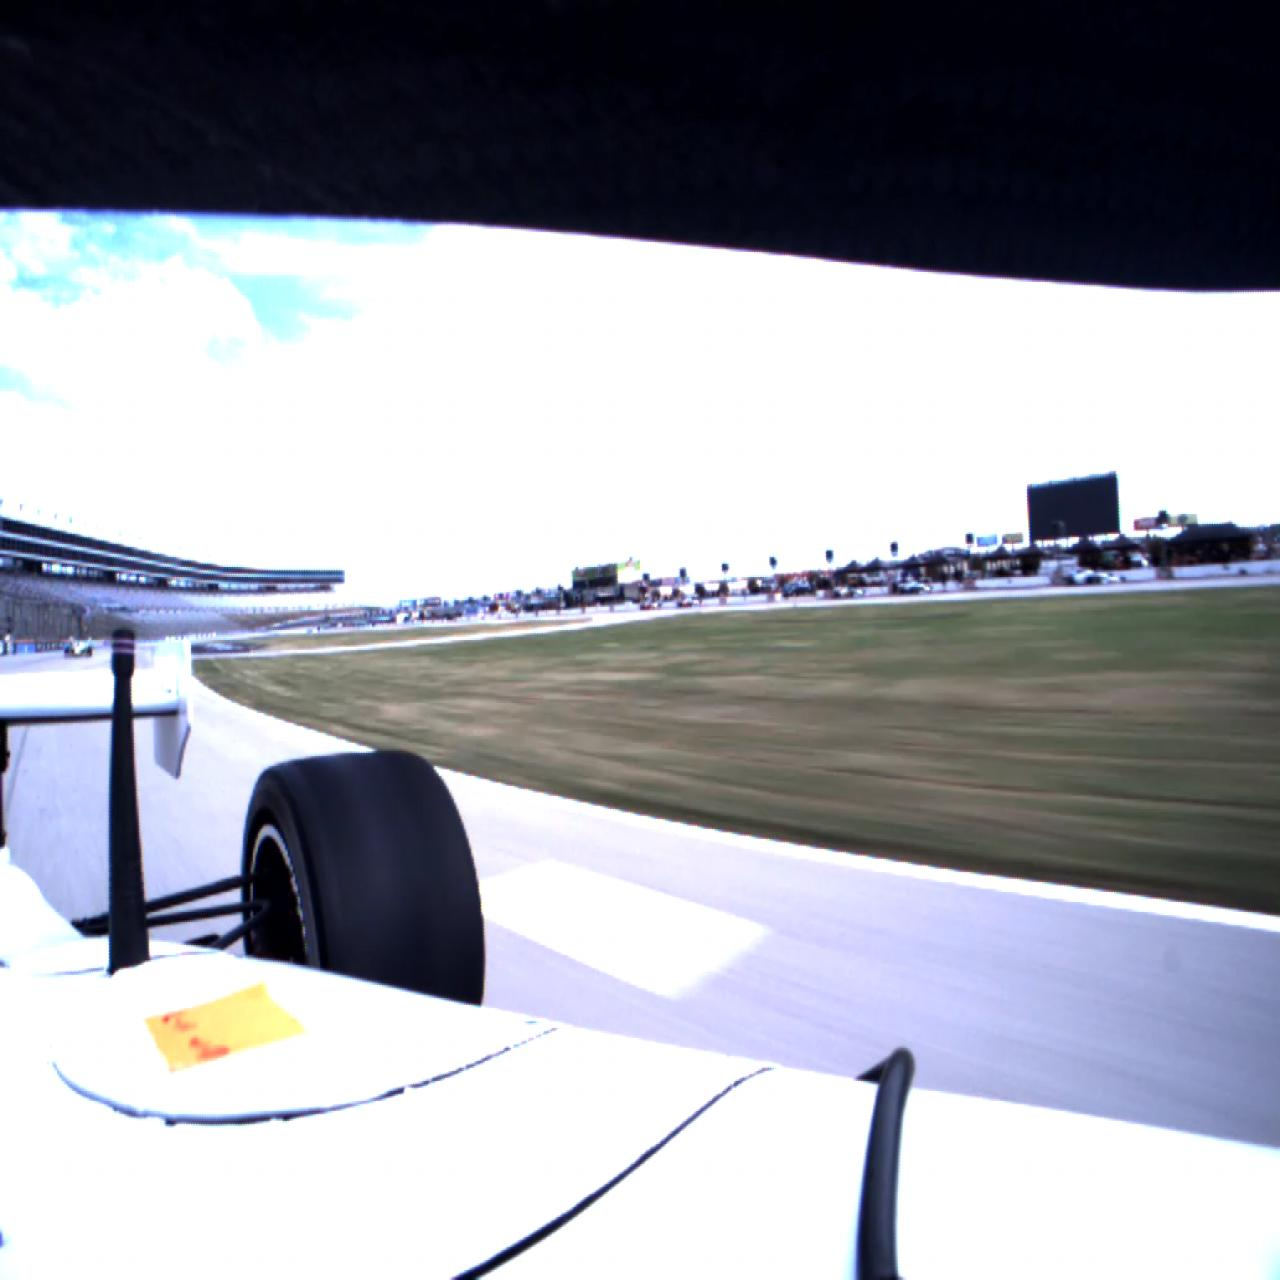AV: (64, 640, 94, 659)
Wheel: (241, 750, 484, 1010)
